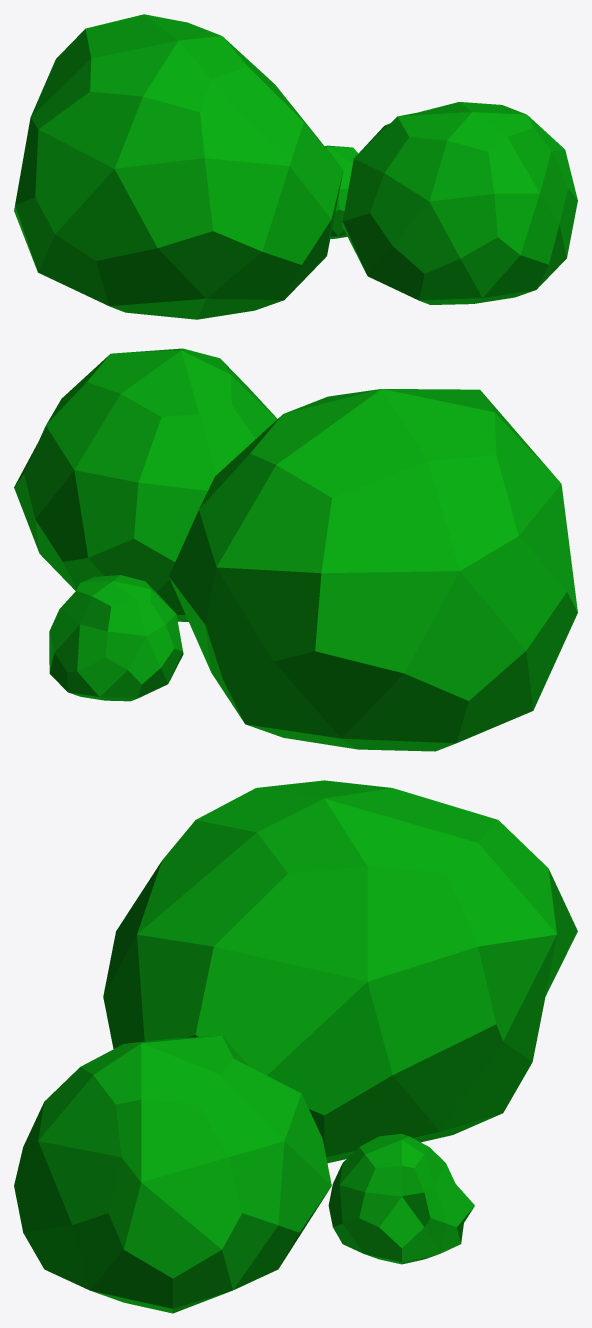
File: Metal Bush.fbx
3 views of the same model, one above another, from view 1: azimuth 30°, elevation 25°; view 2: azimuth 150°, elevation 25°; view 3: azimuth 270°, elevation 25° (orthographic). The views are drawn at different scales.
Parts seen in each view (by area): view 1: Icosphere, Icosphere.002, Icosphere.001; view 2: Icosphere, Icosphere.002, Icosphere.001; view 3: Icosphere, Icosphere.002, Icosphere.001.
Boxes of the visible parts, bbox=[...] form: Icosphere: bbox=[14, 14, 343, 319]; Icosphere.002: bbox=[342, 102, 577, 304]; Icosphere.001: bbox=[325, 145, 358, 238]; Icosphere: bbox=[169, 389, 577, 751]; Icosphere.002: bbox=[14, 348, 277, 621]; Icosphere.001: bbox=[49, 575, 183, 701]; Icosphere: bbox=[103, 780, 577, 1163]; Icosphere.002: bbox=[14, 1035, 331, 1313]; Icosphere.001: bbox=[328, 1134, 474, 1264].
Bounding box in the file's own units: 242 × 125 × 190.
